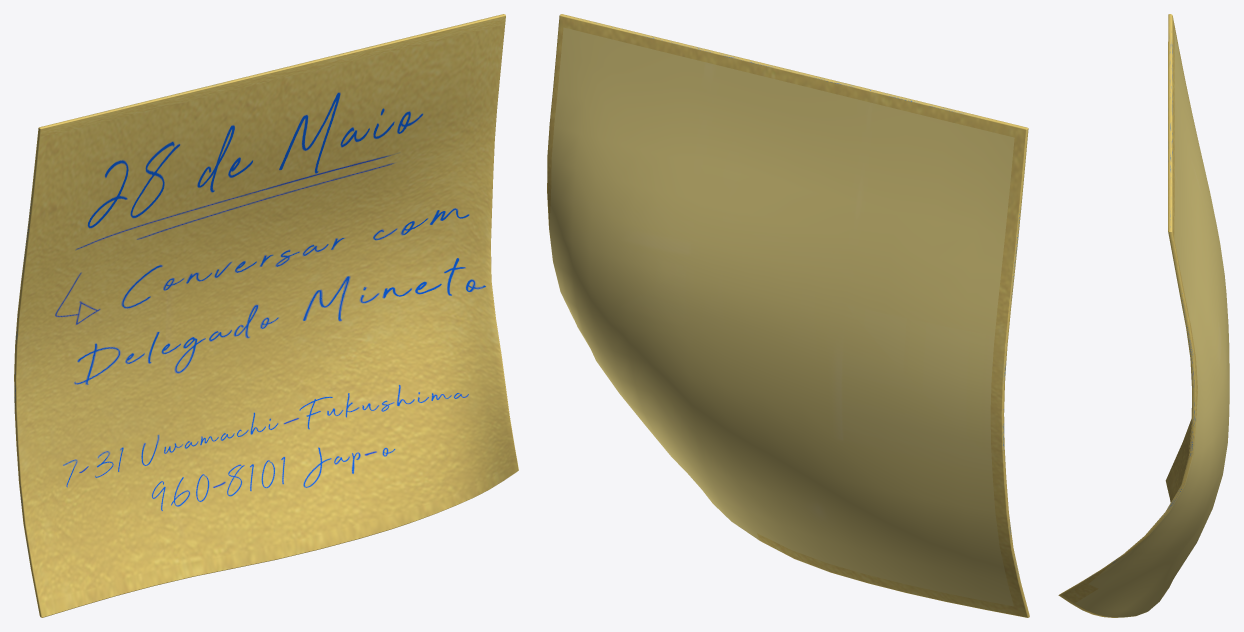
Rendered from Post It Texturizado.fbx.
The picture shows the model from 3 angles, left to right: view 1: azimuth 30°, elevation 25°; view 2: azimuth 150°, elevation 25°; view 3: azimuth 270°, elevation 25°; orthographic projection. The views are drawn at different scales.
Visible parts, largest first — view 1: pCube1; view 2: pCube1; view 3: pCube1.
Part boxes in pixels (<box>): pCube1: <box>14,14,518,617</box>; pCube1: <box>547,14,1029,617</box>; pCube1: <box>1058,14,1229,617</box>.
Bounding box in the file's own units: 8.75 × 8.75 × 2.91.
2 materials, 2 textured.
